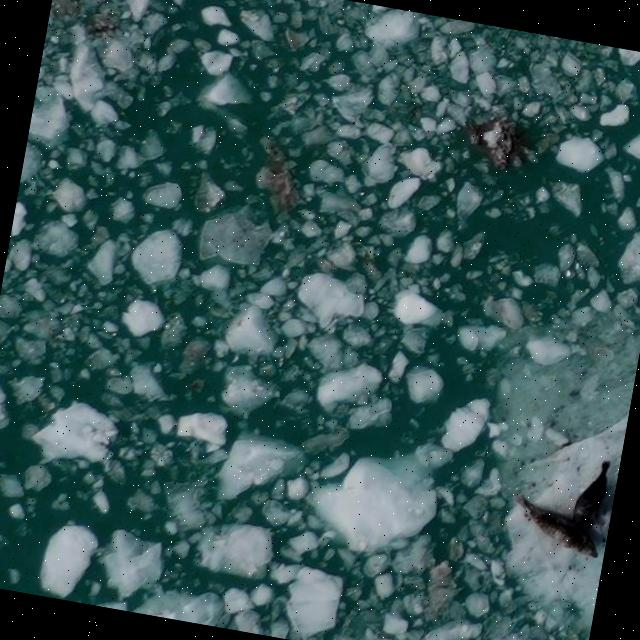seal: (516, 492, 599, 557), (574, 461, 611, 526)
